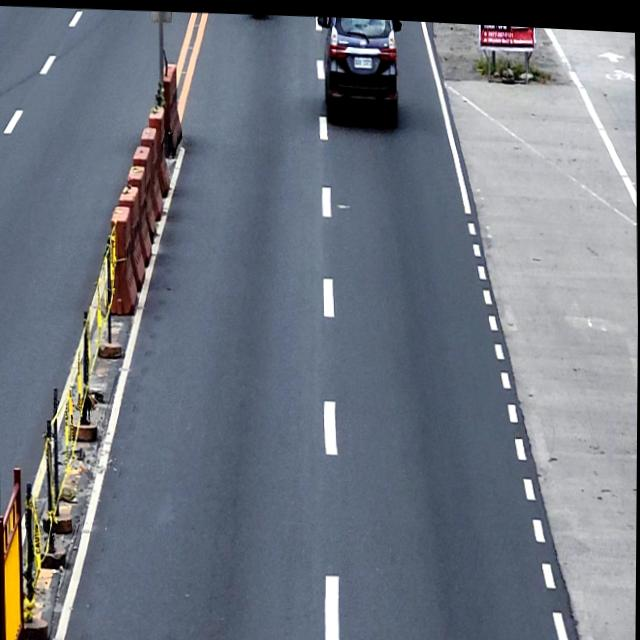Car: (314, 13, 403, 122)
License-Plate: (352, 50, 372, 65)
